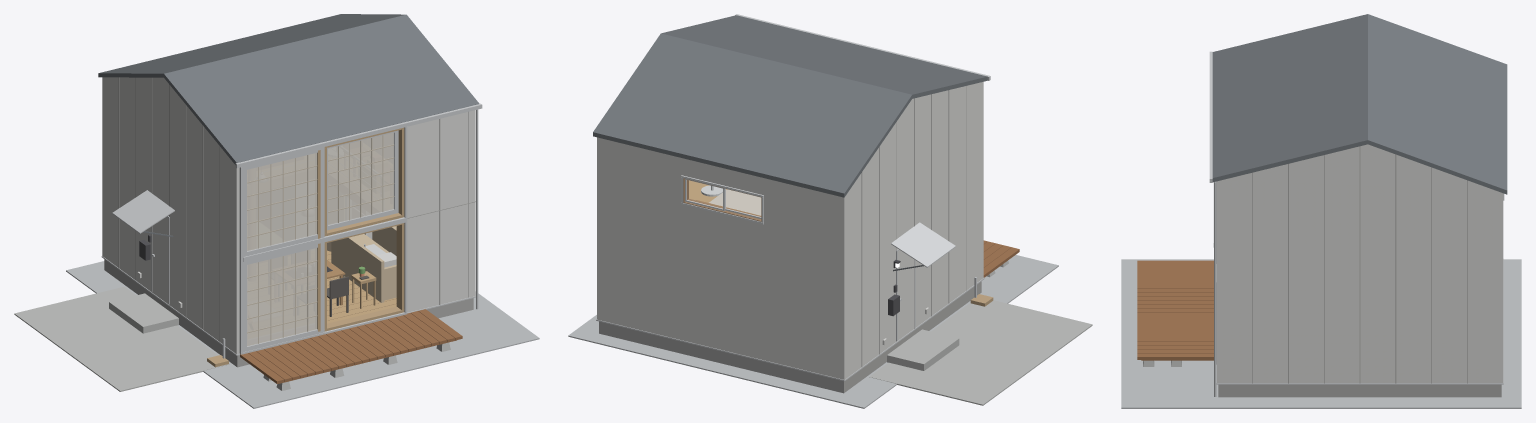
File: 9_tsubo_house_1to1.glb
3 views of the same model, side by side, from view 1: azimuth 30°, elevation 25°; view 2: azimuth 150°, elevation 25°; view 3: azimuth 270°, elevation 25° (orthographic). The views are drawn at different scales.
Parts seen in each view (by area): view 1: House_Roof, Wall_Left_Gable, Wall_Front_RightSolid, Site_Entrance_Pavers, Site_Gravel_Apron, Sash_TopLeft_Shoji_Paper, Sash_BotLeft_Shoji_Paper, Sash_TopRight_Shoji_Paper, Foundation_Plinth, Kitchen_Peninsula_PrivacyShield, Entrance_Concrete_Step, Wall_Right_Gable (+15 smaller); view 2: House_Roof, Wall_Rear_Split_Bot, Wall_Left_Gable, Site_Entrance_Pavers, Site_Gravel_Apron, Foundation_Plinth, Wall_Rear_Split_Top, Wall_Rear_Split_Right, Wall_Rear_Split_Left, Entrance_Concrete_Step, Entrance_Canopy, Entrance_Door_Leaf (+4 smaller); view 3: Wall_Right_Gable, House_Roof, Site_Gravel_Apron, Foundation_Plinth, Plinth_Flashing, Roof_Downspout, Deck_Plank_23, Roof_Gutter, Seam_Right_V4, Seam_Right_V5, Deck_Plank_00, Deck_Plank_01 (+9 smaller).
Boxes of the visible parts, x1,y1,x2,y2 form: House_Roof: [98, 14, 479, 164]; Wall_Left_Gable: [102, 77, 239, 354]; Wall_Front_RightSolid: [407, 112, 468, 312]; Site_Entrance_Pavers: [14, 286, 229, 391]; Site_Gravel_Apron: [66, 261, 539, 408]; Sash_TopLeft_Shoji_Paper: [247, 153, 317, 251]; Sash_BotLeft_Shoji_Paper: [247, 248, 317, 346]; Sash_TopRight_Shoji_Paper: [328, 132, 393, 225]; Foundation_Plinth: [104, 259, 473, 367]; Kitchen_Peninsula_PrivacyShield: [331, 237, 384, 302]; Entrance_Concrete_Step: [109, 293, 178, 333]; Wall_Right_Gable: [468, 110, 475, 297]; House_Roof: [593, 15, 987, 197]; Wall_Rear_Split_Bot: [604, 183, 837, 377]; Wall_Left_Gable: [837, 82, 983, 379]; Site_Entrance_Pavers: [869, 300, 1092, 405]; Site_Gravel_Apron: [568, 255, 1058, 408]; Foundation_Plinth: [599, 281, 981, 393]; Wall_Rear_Split_Top: [604, 139, 837, 214]; Wall_Rear_Split_Right: [604, 158, 680, 202]; Wall_Rear_Split_Left: [764, 197, 837, 240]; Entrance_Concrete_Step: [887, 329, 959, 370]; Entrance_Canopy: [891, 222, 955, 267]; Entrance_Door_Leaf: [897, 250, 914, 339]; Wall_Right_Gable: [1217, 144, 1503, 382]; House_Roof: [1212, 14, 1507, 194]; Site_Gravel_Apron: [1121, 259, 1521, 408]; Foundation_Plinth: [1218, 384, 1501, 397]; Plinth_Flashing: [1216, 259, 1503, 384]; Roof_Downspout: [1214, 181, 1216, 396]; Deck_Plank_23: [1137, 353, 1213, 359]; Roof_Gutter: [1209, 51, 1212, 182]; Seam_Right_V4: [1359, 146, 1360, 382]; Seam_Right_V5: [1395, 154, 1396, 383]; Deck_Plank_00: [1137, 260, 1213, 264]; Deck_Plank_01: [1137, 264, 1213, 268].
Size of what is drawn, in the model's own units: 8.65 by 5.47 by 7.63.
